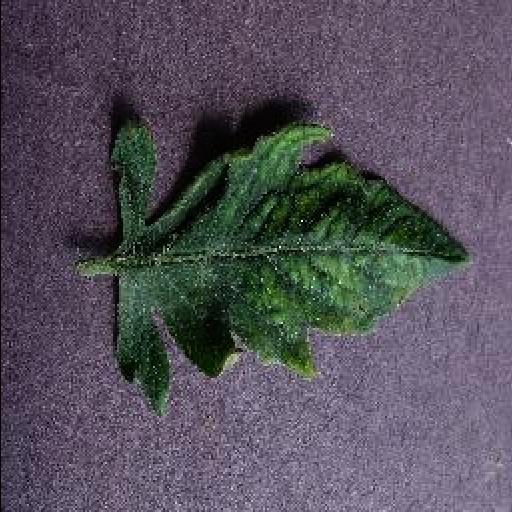Mosaic Virus: (112, 114, 474, 422)
